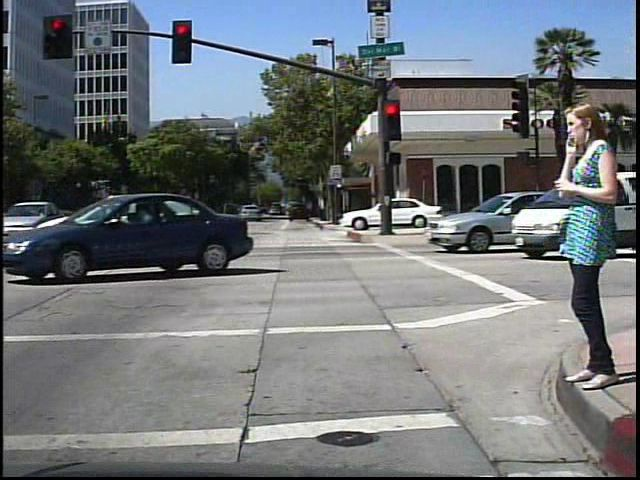person: (552, 91, 619, 400)
